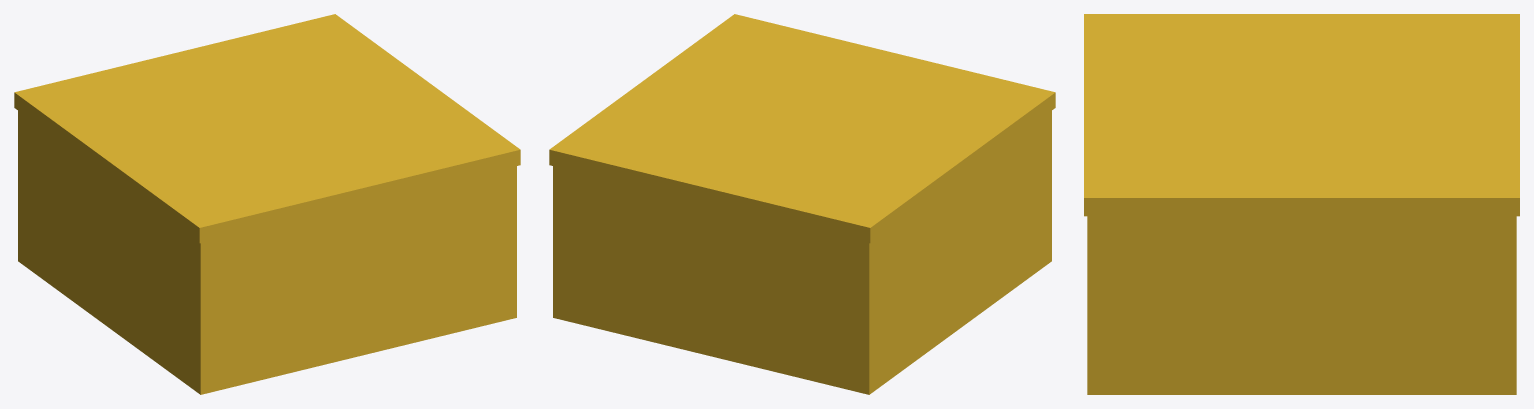
The picture shows the model from 3 angles, left to right: view 1: azimuth 30°, elevation 25°; view 2: azimuth 150°, elevation 25°; view 3: azimuth 270°, elevation 25°; orthographic projection. The views are drawn at different scales.
Parts seen in each view (by area): view 1: Low_Poly_Box_03, Low_Poly_Box_03_Lid; view 2: Low_Poly_Box_03, Low_Poly_Box_03_Lid; view 3: Low_Poly_Box_03_Lid, Low_Poly_Box_03.
Boxes of the visible parts, bbox=[...] form: Low_Poly_Box_03: bbox=[18, 111, 516, 394]; Low_Poly_Box_03_Lid: bbox=[14, 14, 520, 243]; Low_Poly_Box_03: bbox=[553, 111, 1051, 394]; Low_Poly_Box_03_Lid: bbox=[549, 14, 1055, 243]; Low_Poly_Box_03_Lid: bbox=[1084, 14, 1519, 216]; Low_Poly_Box_03: bbox=[1087, 216, 1516, 394].
Size of the model in its own units: 122 by 61.16 by 122.
